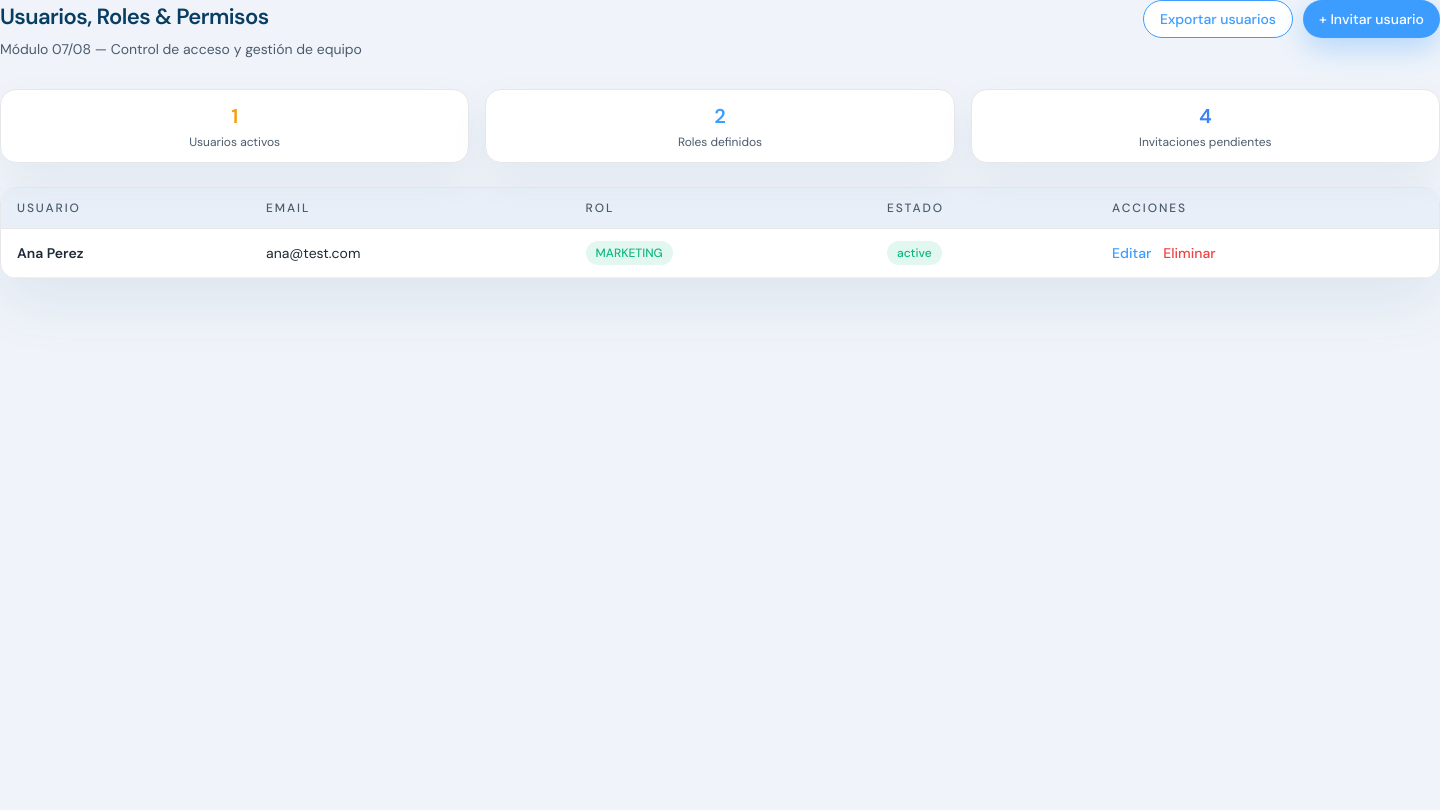
Test: UsersPage › abre acciones de editar y eliminar para usuarios
This screenshot has width=1440, height=810.
Click the button "Editar" at (1132, 253), box [1112,243,1151,263]
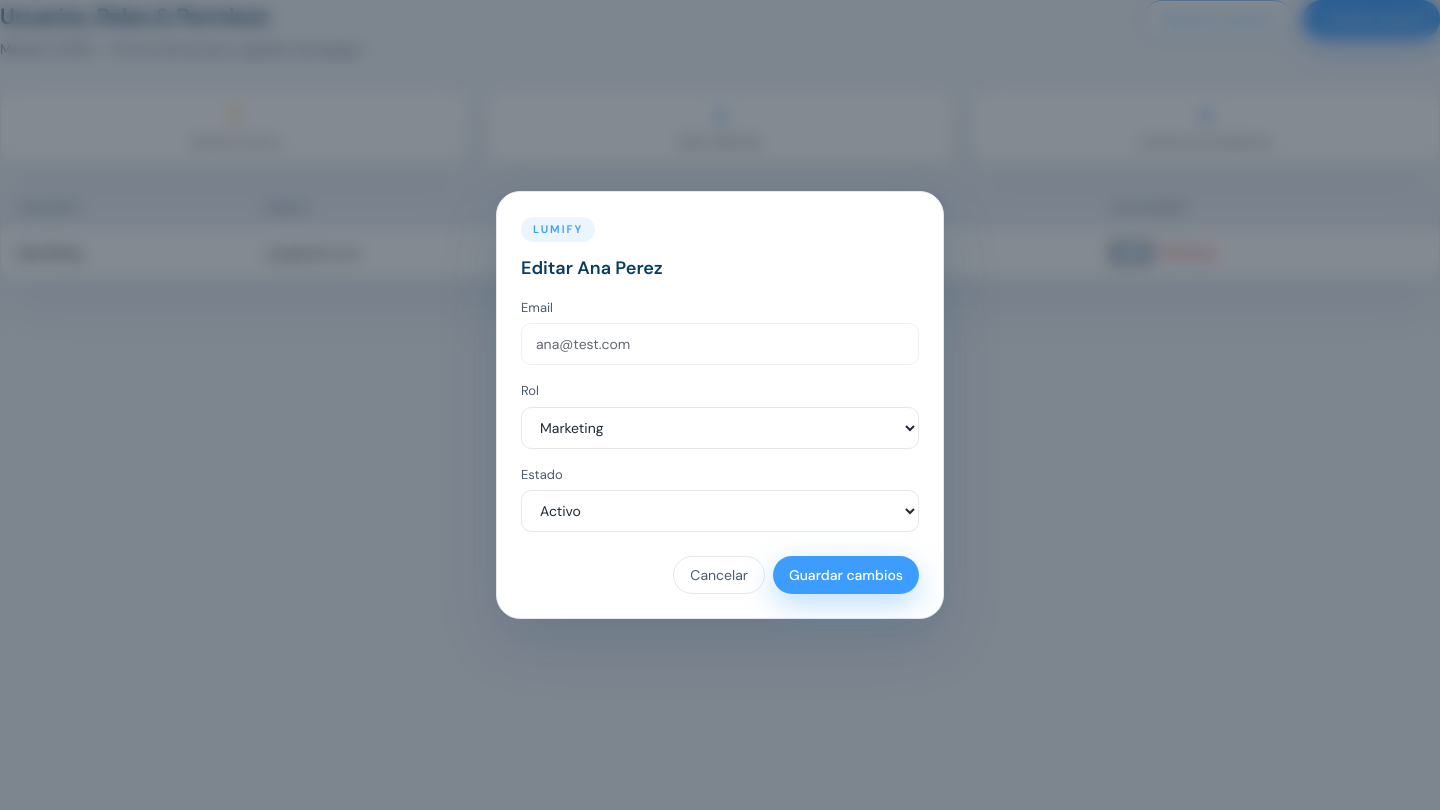
Expected: the heading "Editar Ana Perez" is shown, [521,256,663,280]
Click the button "Cancelar" at (719, 575), box [673,556,765,594]
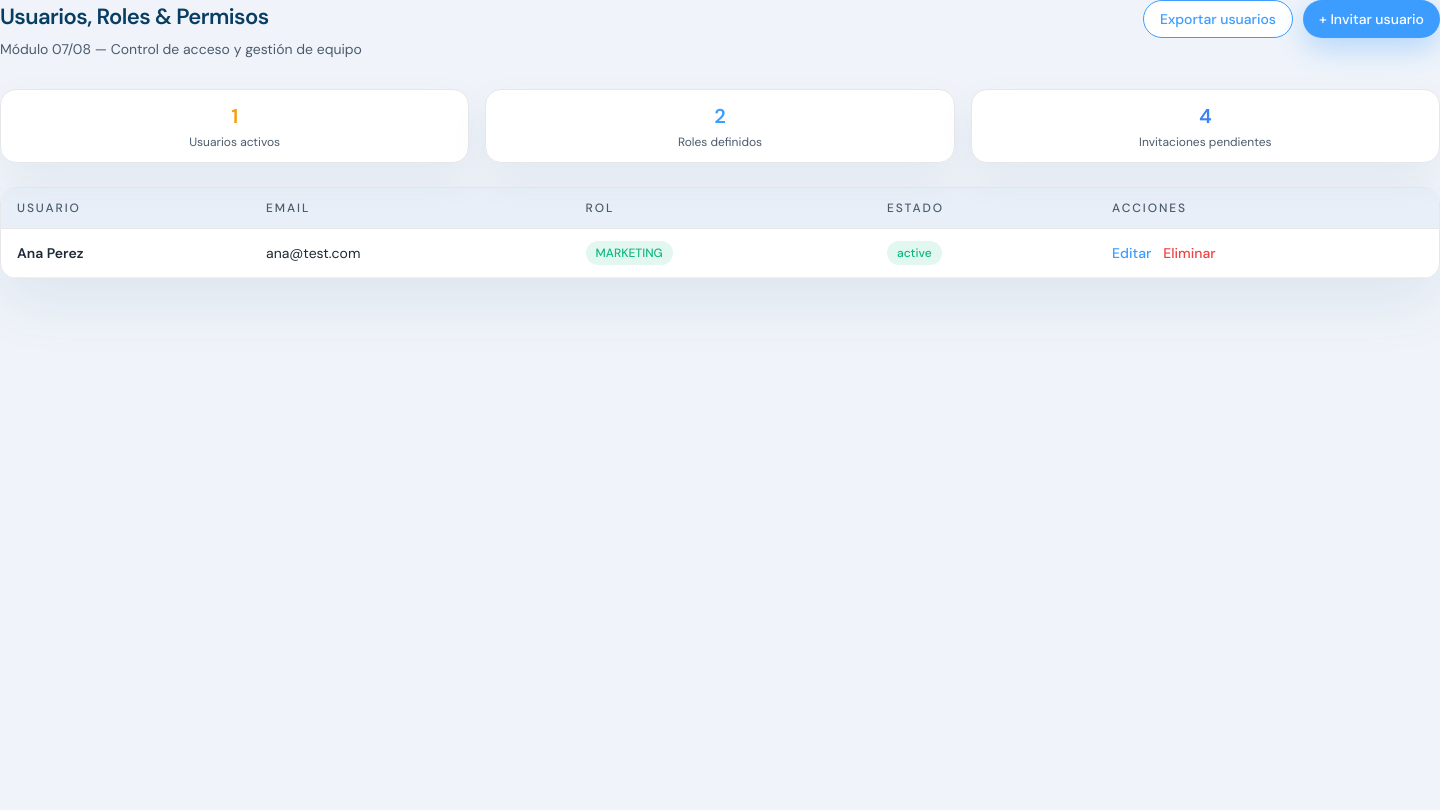
Click the button "Eliminar" at (1190, 253), box [1163,243,1216,263]
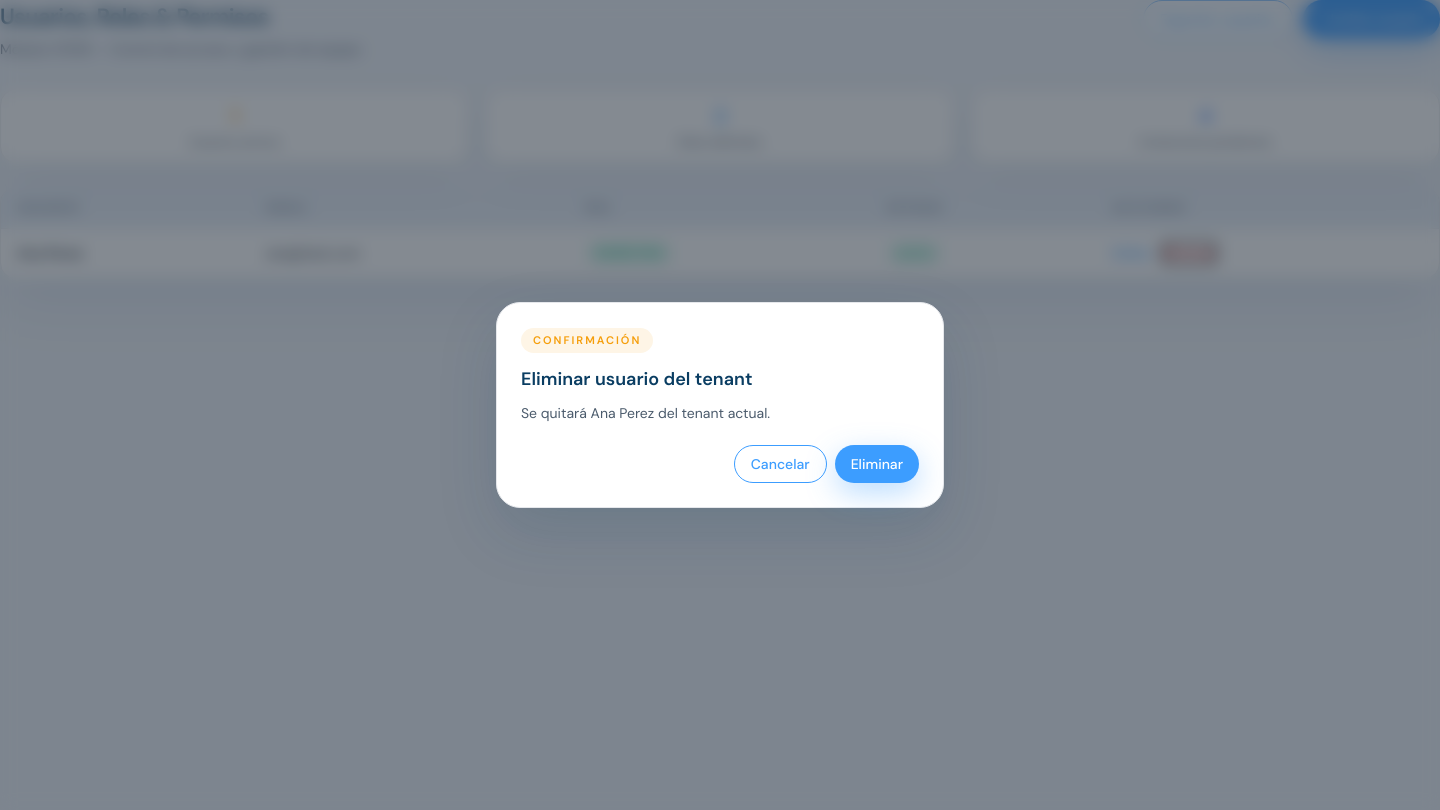
Expected: the heading "Eliminar usuario del tenant" is shown, [521,367,752,391]
